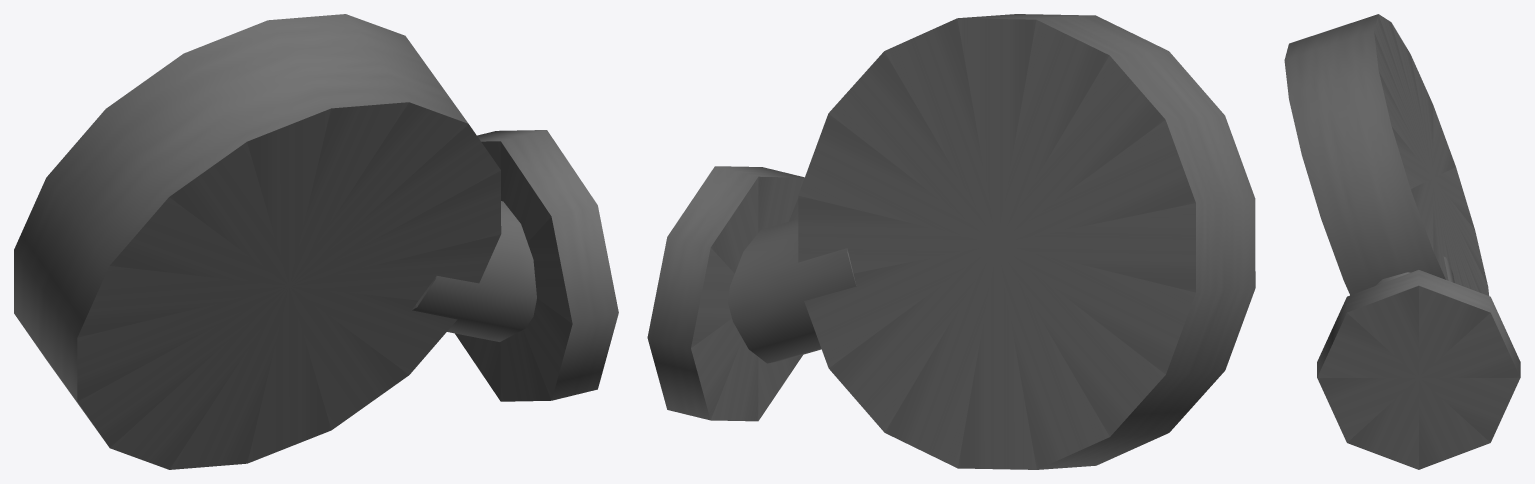
File: mastarmcurve_5x1_c0_east.obj
The picture shows the model from 3 angles, left to right: view 1: azimuth 30°, elevation 25°; view 2: azimuth 150°, elevation 25°; view 3: azimuth 270°, elevation 25°; orthographic projection. The views are drawn at different scales.
Parts seen in each view (by area): view 1: mastarm_5x1_c0_east; view 2: mastarm_5x1_c0_east; view 3: mastarm_5x1_c0_east.
Boxes of the visible parts, x1=… form: mastarm_5x1_c0_east: x1=14, y1=14, x2=618, y2=469; mastarm_5x1_c0_east: x1=647, y1=14, x2=1255, y2=469; mastarm_5x1_c0_east: x1=1284, y1=14, x2=1520, y2=469.
Size of the model in its own units: 0.8398 by 0.7204 by 0.4643.
